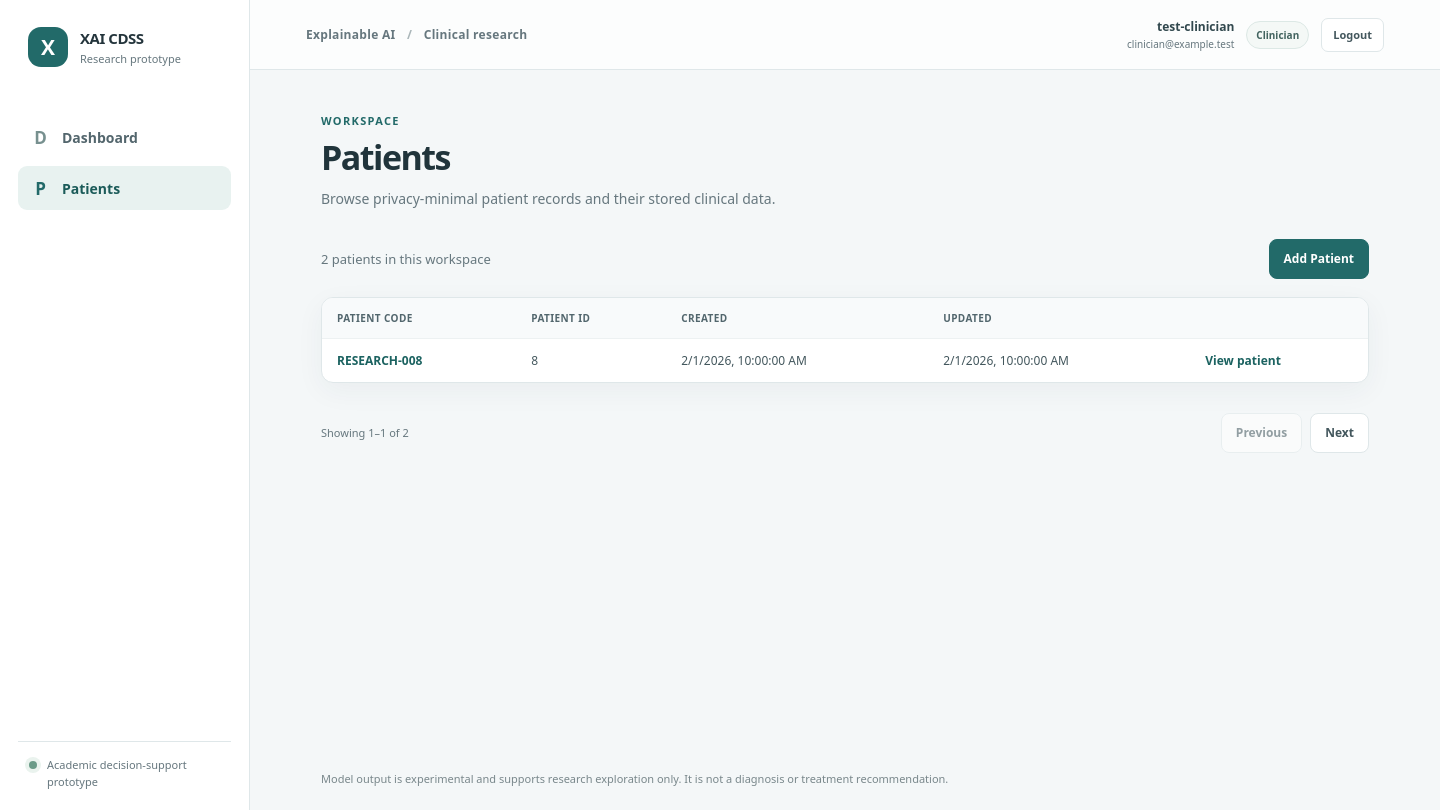
Scenario: patient management UI › uses backend skip/limit pagination and disables unavailable directions
Expected: the button "Previous" is disabled, [1221, 413, 1302, 453]
Click the button "Next".
click(1340, 433)  # box [1310, 413, 1369, 453]
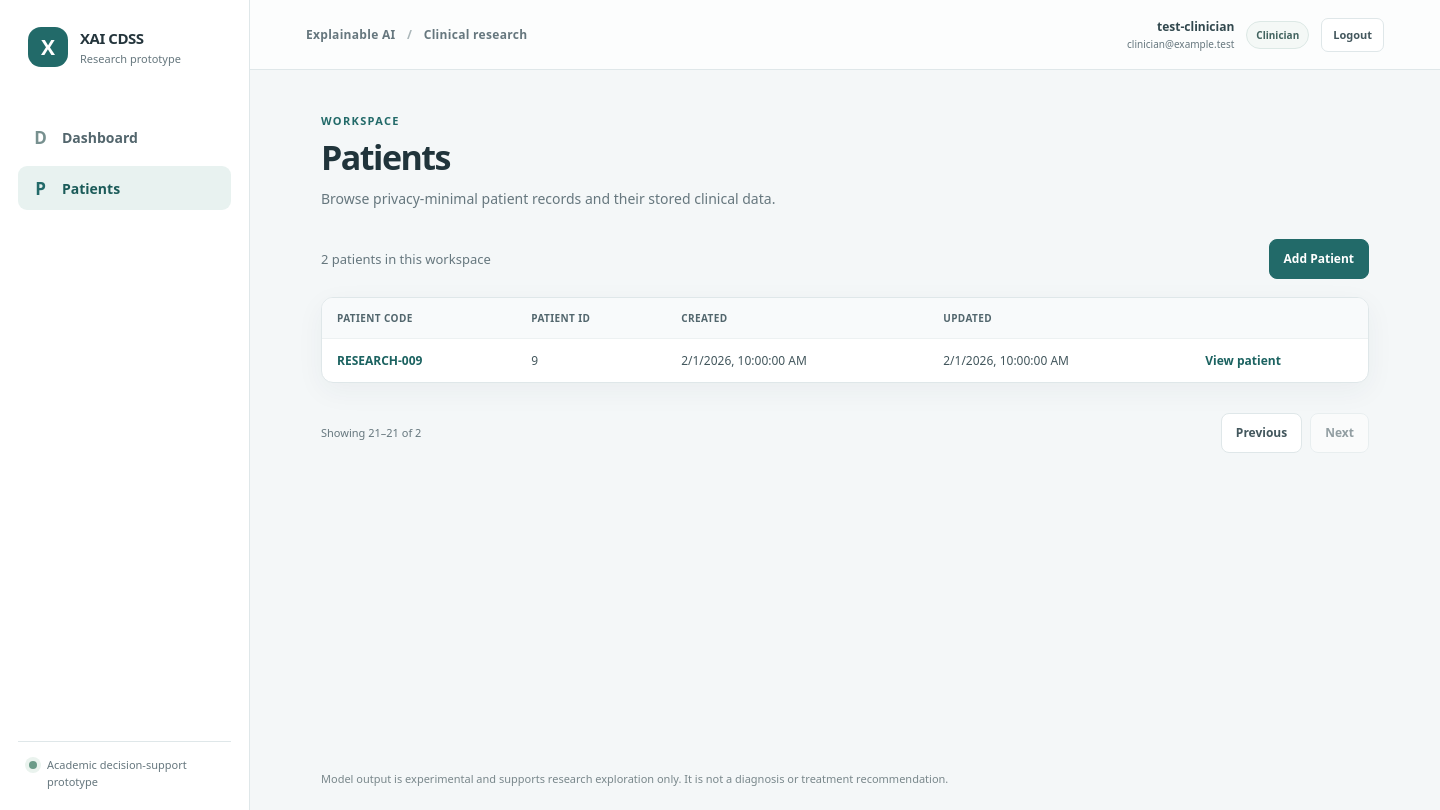
Expected: the link "RESEARCH-009" is shown, [337, 352, 422, 369]
